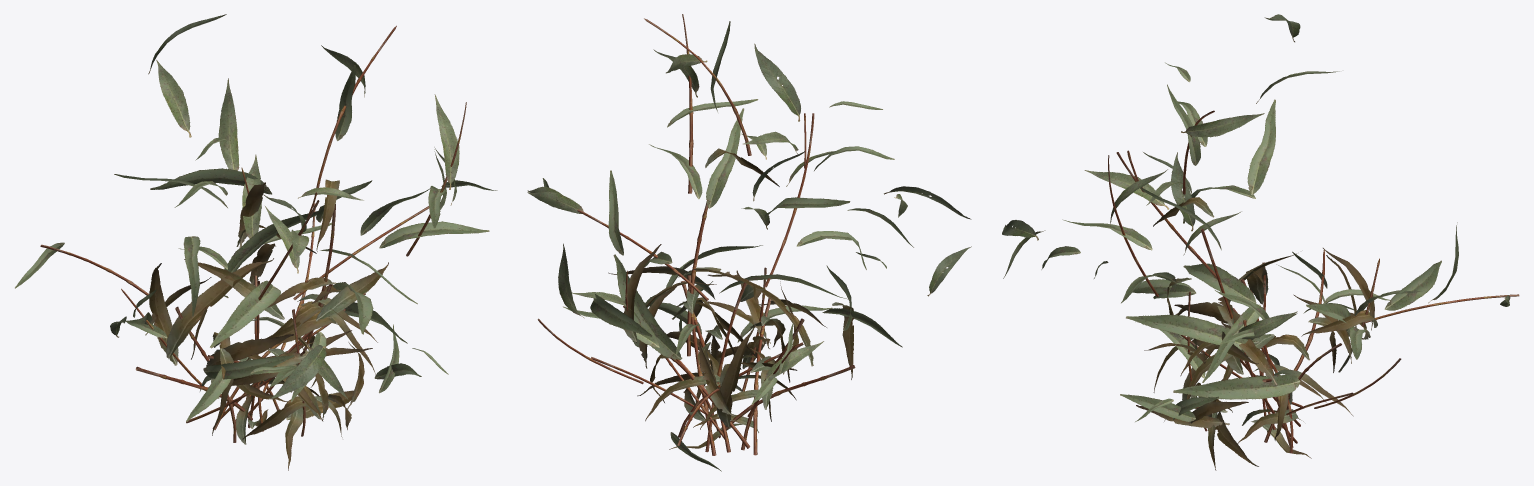
File: arbusto_02.glb
3 views of the same model, side by side, from view 1: azimuth 30°, elevation 25°; view 2: azimuth 150°, elevation 25°; view 3: azimuth 270°, elevation 25° (orthographic). The views are drawn at different scales.
Visible parts, largest first — view 1: arbusto_02_v0, arbusto_02_v1, arbusto_02_v2, arbusto_02_v3; view 2: arbusto_02_v0, arbusto_02_v1, arbusto_02_v2, arbusto_02_v3; view 3: arbusto_02_v0, arbusto_02_v1, arbusto_02_v3, arbusto_02_v2.
Part boxes in pixels (x1,y1,x2,y2): arbusto_02_v0: (114, 14, 489, 429); arbusto_02_v1: (186, 25, 430, 435); arbusto_02_v2: (15, 137, 497, 442); arbusto_02_v3: (121, 187, 448, 470); arbusto_02_v0: (558, 14, 850, 452); arbusto_02_v1: (563, 18, 902, 455); arbusto_02_v2: (527, 101, 971, 471); arbusto_02_v3: (537, 133, 832, 449); arbusto_02_v0: (1062, 14, 1458, 447); arbusto_02_v1: (1094, 84, 1420, 453); arbusto_02_v3: (1120, 152, 1401, 470); arbusto_02_v2: (1002, 62, 1519, 435).
Size of the model in its own units: 1.77 by 1.76 by 2.
Materials: 1 (1 with a texture image).
